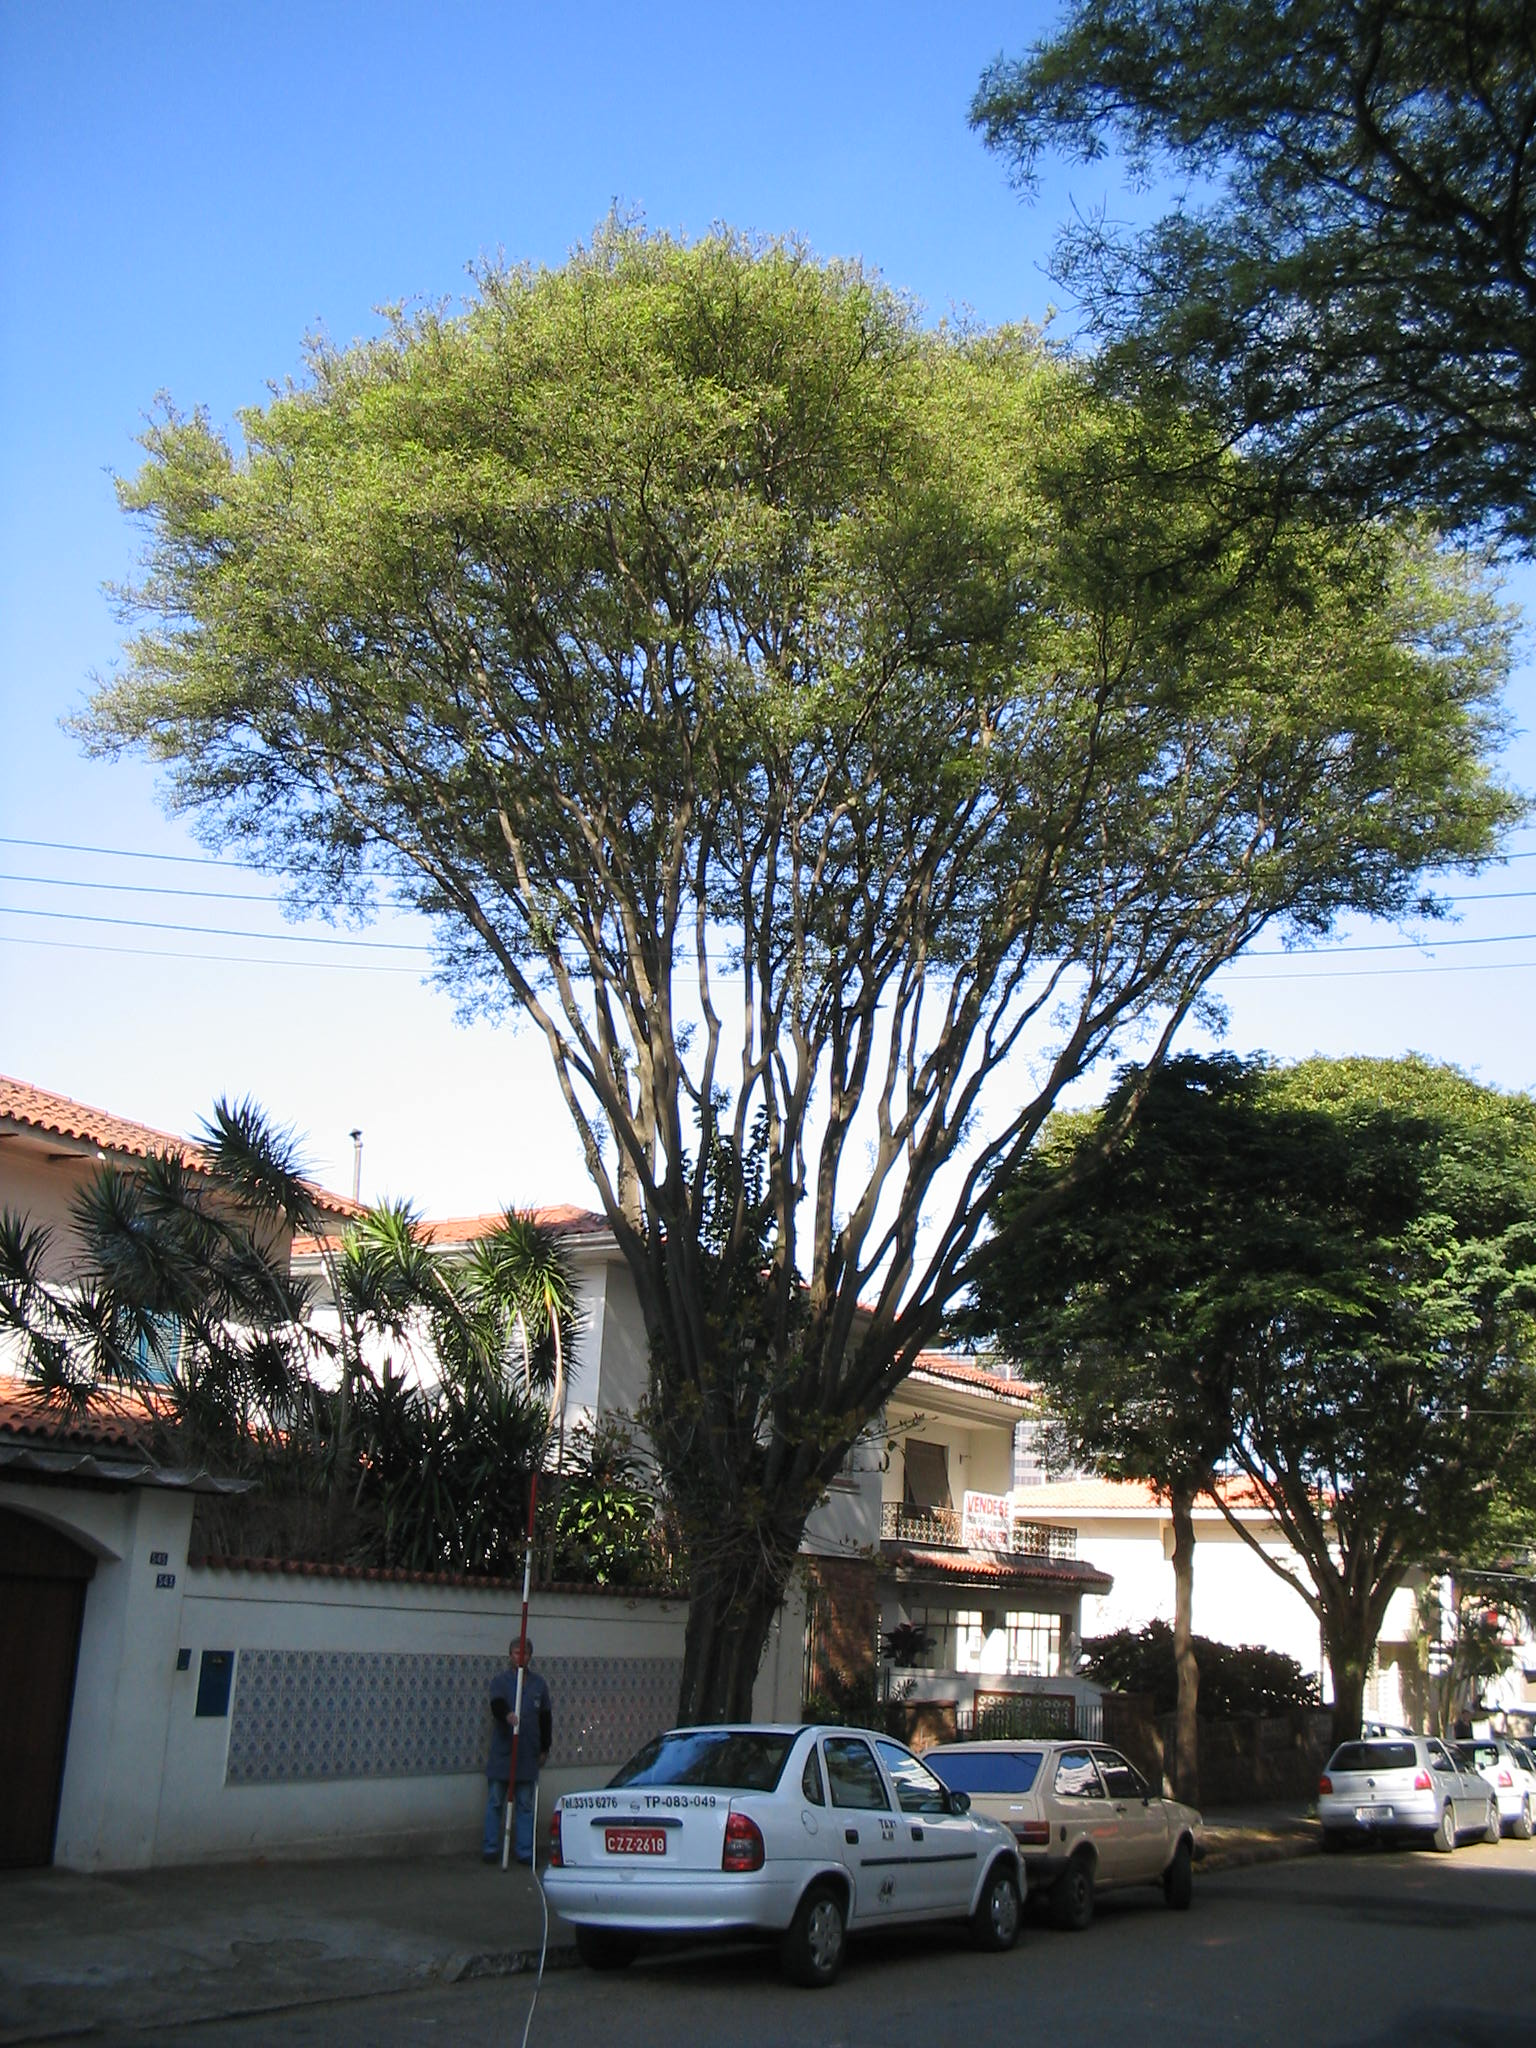crown: (73, 200, 1533, 1013), (995, 1066, 1530, 1587)
stem: (608, 1492, 854, 1879), (1296, 1624, 1399, 1790)
stick: (470, 1467, 565, 1869)
tree: (68, 197, 1528, 1879), (986, 1061, 1536, 1790)
